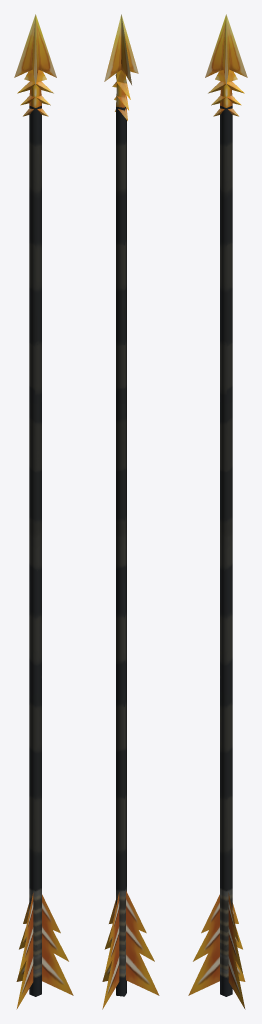
Rendered from Arrow03_mesh.FBX.
3 views of the same model, side by side, from view 1: azimuth 90°, elevation 25°; view 2: azimuth 210°, elevation 25°; view 3: azimuth 270°, elevation 25° (orthographic).
Parts seen in each view (by area): view 1: Arrow03_mesh; view 2: Arrow03_mesh; view 3: Arrow03_mesh.
Boxes of the visible parts, bbox=[...] form: Arrow03_mesh: bbox=[14, 14, 73, 1009]; Arrow03_mesh: bbox=[102, 14, 159, 1009]; Arrow03_mesh: bbox=[188, 14, 247, 1009].
Bounding box in the file's own units: 2.38 × 38.97 × 2.14.
